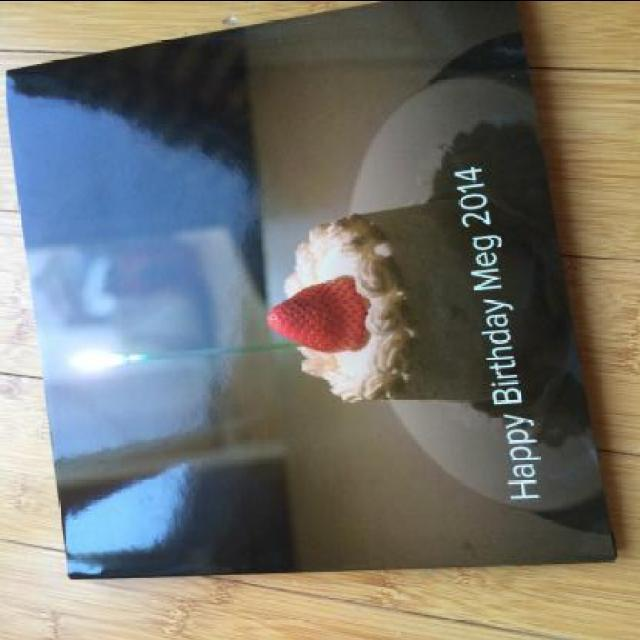Strawberry: (266, 276, 366, 352)
